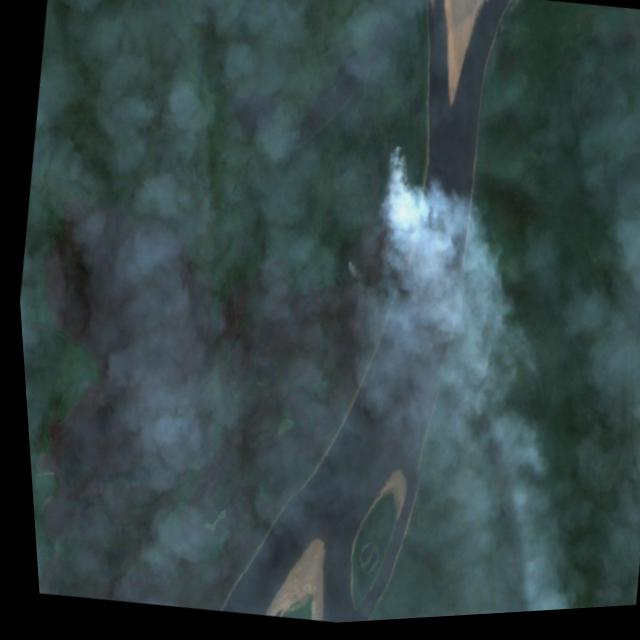fire: (363, 146, 428, 249)
